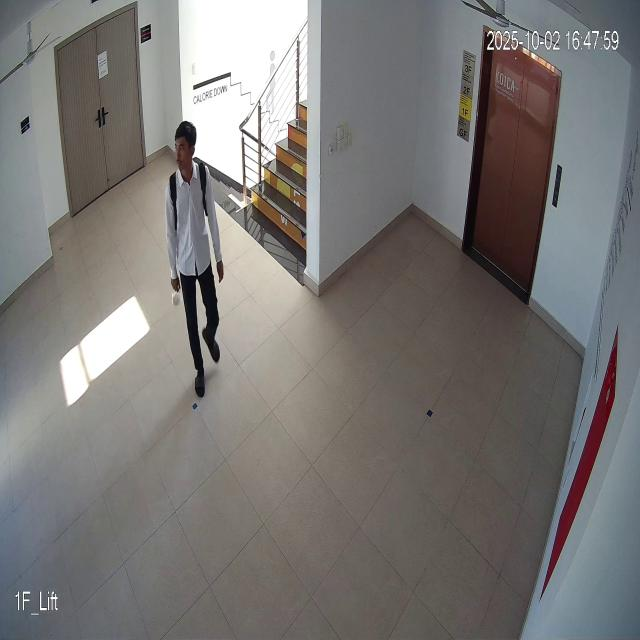face: (173, 111, 200, 180)
